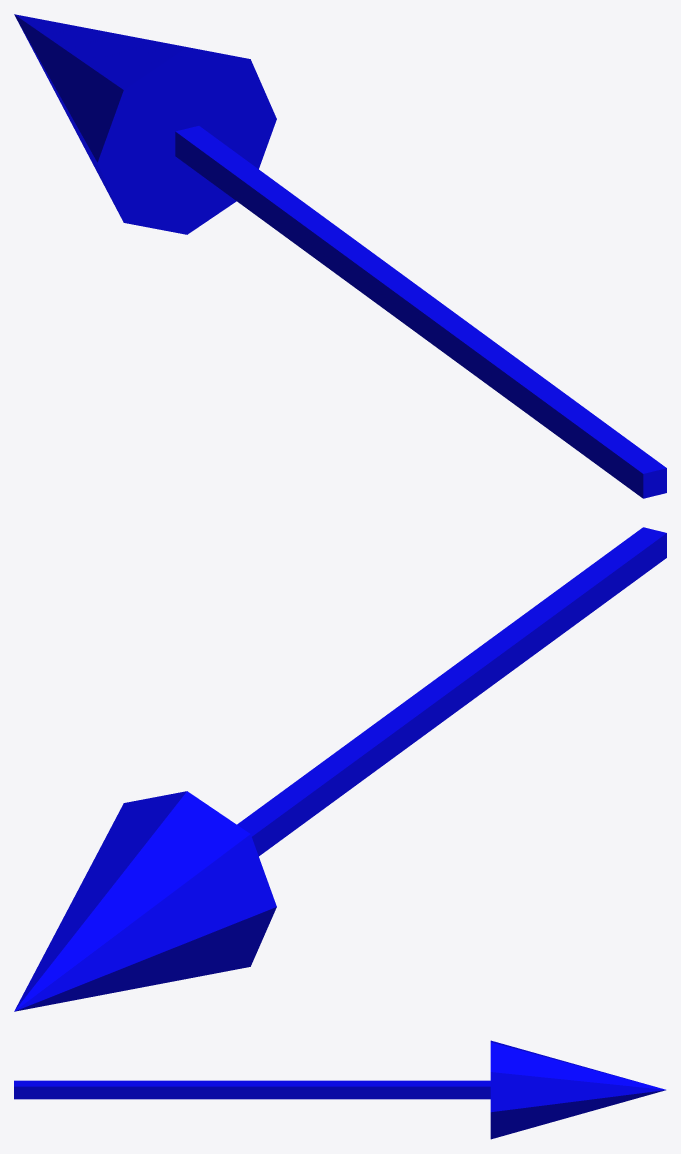
The model's file is translate_arrow_z.dae.
3 renders of one model, top to bottom at view 1: azimuth 30°, elevation 25°; view 2: azimuth 150°, elevation 25°; view 3: azimuth 270°, elevation 25°, orthographic. The views are drawn at different scales.
Parts seen in each view (by area): view 1: Arrow; view 2: Arrow; view 3: Arrow.
Boxes of the visible parts, x1,y1,x2,y2 form: Arrow: [14, 14, 666, 498]; Arrow: [14, 527, 666, 1011]; Arrow: [14, 1040, 665, 1139].
Size of what is drawn, in the model's own units: 0.3537 by 2.19 by 0.3537.
